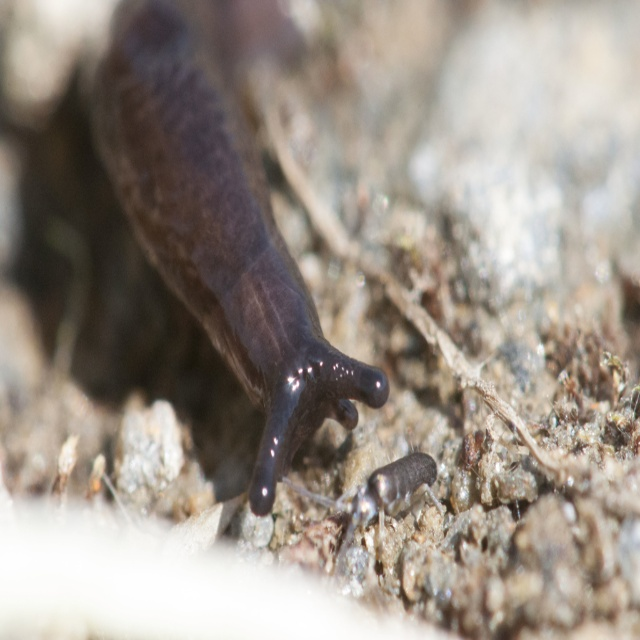Snail: (79, 0, 386, 524)
